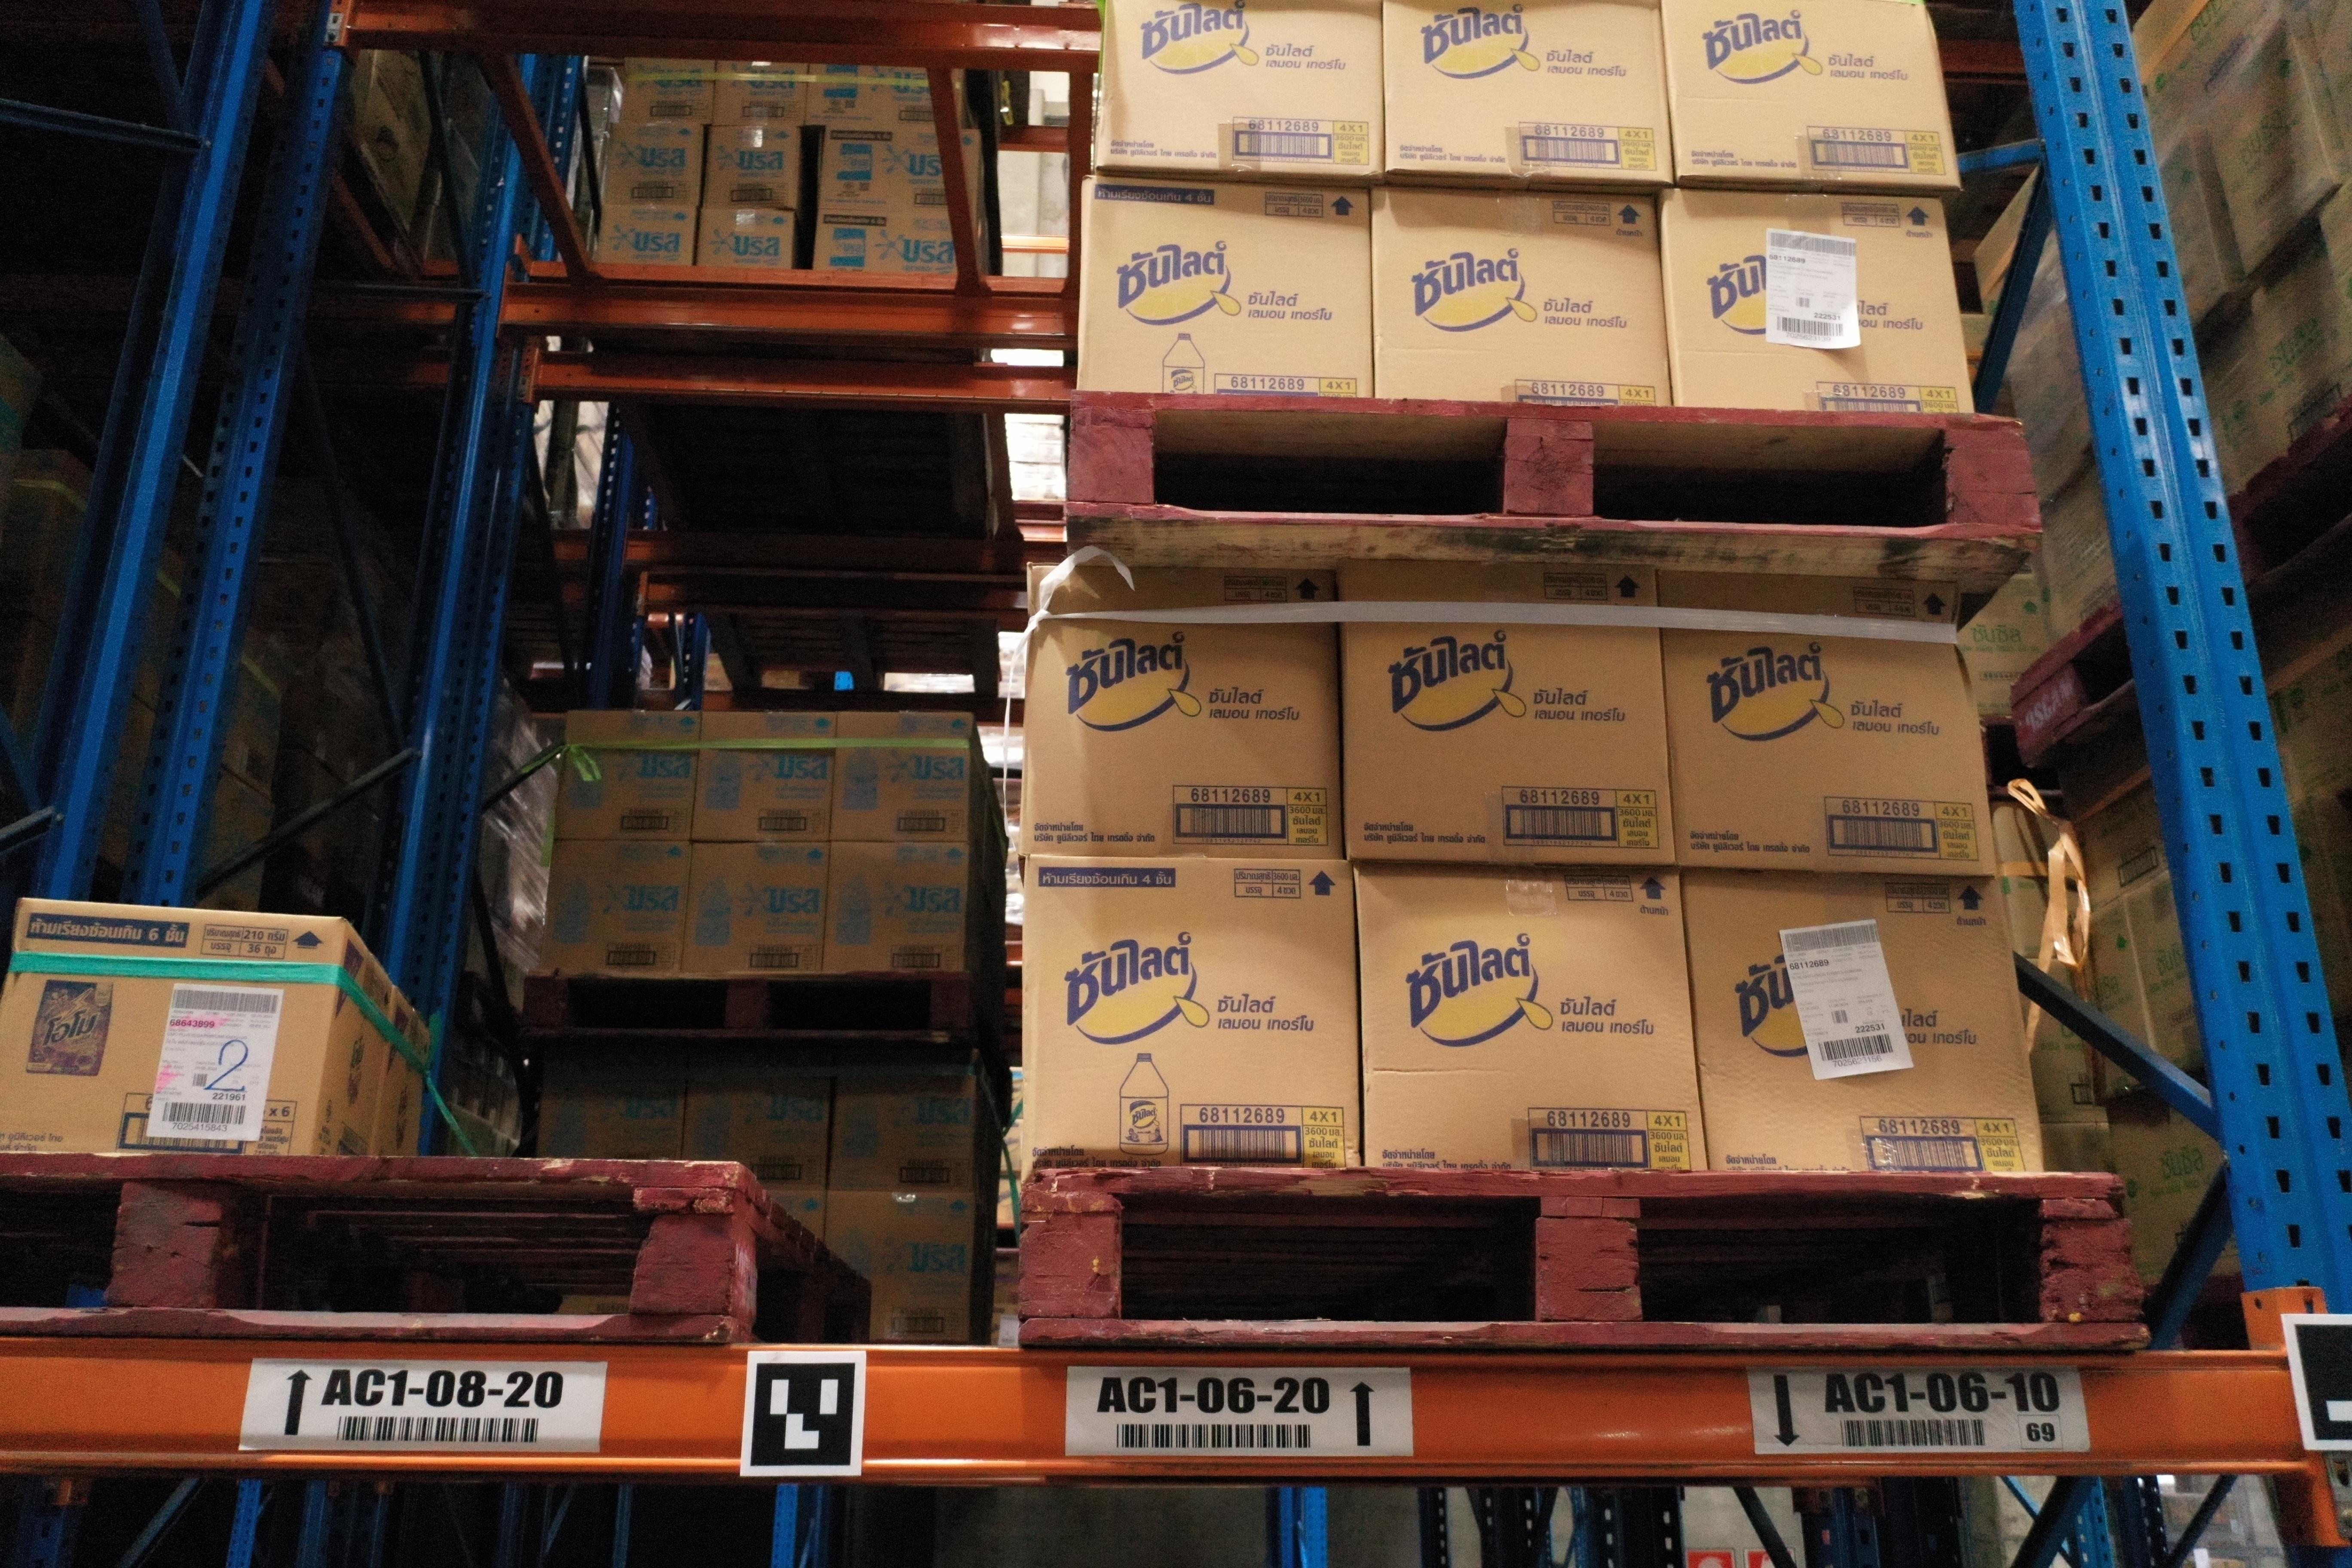-: (1353, 866, 1711, 1174), (1682, 877, 2046, 1174), (1024, 852, 1363, 1169), (1657, 565, 1998, 878), (1339, 558, 1678, 866), (1025, 565, 1344, 859), (0, 894, 346, 1155), (1659, 184, 1977, 418), (1370, 185, 1673, 408), (1074, 171, 1375, 394)
2: (824, 1192, 975, 1344), (684, 1045, 835, 1193), (535, 838, 693, 978), (828, 1048, 975, 1197), (553, 705, 703, 843), (682, 840, 829, 978), (691, 710, 838, 847), (829, 710, 973, 845), (824, 840, 969, 973), (541, 1039, 691, 1160), (821, 124, 980, 213), (814, 203, 975, 278), (803, 59, 961, 133), (604, 122, 702, 208), (702, 124, 800, 210), (618, 54, 716, 126), (709, 58, 810, 126), (696, 206, 793, 271), (600, 206, 696, 266)
